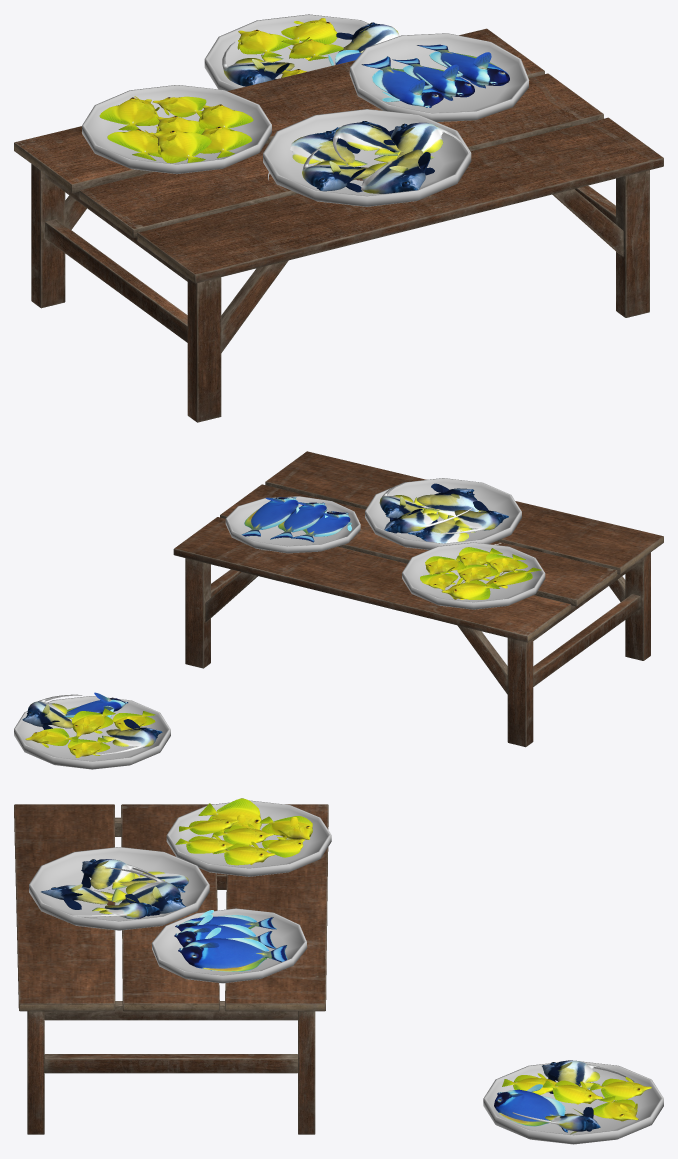
3 views of the same model, one above another, from view 1: azimuth 30°, elevation 25°; view 2: azimuth 150°, elevation 25°; view 3: azimuth 270°, elevation 25° (orthographic). The views are drawn at different scales.
Parts seen in each view (by area): view 1: Table, Basketmain_A.003, Basketmain_A.002, Basketmain_A.001, Basketmain_A.004, Banner_2, Dory_1, Dory_3, Banner_4, Banner_3, Banner_1, Dory_2 (+13 smaller); view 2: Table, Basketmain_A.004, Basketmain_A.003, Basketmain_A.001, Basketmain_A.002, Banner_2, Dory_3, Banner_1.001, Banner_4.001, Banner_4, Dory_2, Banner_5 (+15 smaller); view 3: Table, Basketmain_A.003, Basketmain_A.004, Basketmain_A.001, Basketmain_A.002, Dory_3, Dory_2.001, Banner_5, Banner_4, Dory_2, Banner_4.001, wire_1 (+15 smaller).
Boxes of the visible parts, x1,y1,x2,y2 form: Table: [14, 28, 663, 422]; Basketmain_A.003: [263, 109, 471, 206]; Basketmain_A.002: [349, 33, 529, 121]; Basketmain_A.001: [82, 85, 271, 174]; Basketmain_A.004: [204, 14, 369, 90]; Banner_2: [349, 149, 434, 193]; Dory_1: [361, 56, 443, 107]; Dory_3: [417, 44, 509, 88]; Banner_4: [302, 147, 375, 192]; Banner_3: [268, 127, 360, 180]; Banner_1: [383, 122, 469, 159]; Dory_2: [392, 58, 474, 100]; Table: [173, 451, 663, 747]; Basketmain_A.004: [14, 696, 170, 769]; Basketmain_A.003: [365, 478, 521, 549]; Basketmain_A.001: [402, 542, 545, 609]; Basketmain_A.002: [225, 496, 360, 553]; Banner_2: [416, 483, 480, 530]; Dory_3: [241, 497, 299, 536]; Banner_1.001: [22, 694, 82, 729]; Banner_4.001: [95, 719, 162, 755]; Banner_4: [441, 501, 508, 533]; Dory_2: [270, 502, 327, 539]; Banner_5: [384, 508, 471, 533]; Table: [14, 804, 328, 1134]; Basketmain_A.003: [29, 847, 209, 930]; Basketmain_A.004: [483, 1061, 663, 1144]; Basketmain_A.001: [166, 800, 331, 876]; Basketmain_A.002: [151, 908, 307, 983]; Dory_3: [178, 927, 287, 971]; Dory_2.001: [494, 1084, 568, 1132]; Banner_5: [105, 867, 185, 915]; Banner_4: [81, 859, 157, 889]; Dory_2: [174, 914, 276, 948]; Banner_4.001: [542, 1060, 634, 1093]; wire_1: [198, 798, 261, 832].
Size of the model in its own units: 223 by 78.32 by 275.
